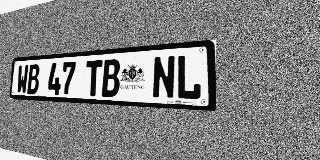4: (47, 62, 62, 95)
7: (61, 62, 76, 96)
B: (102, 59, 120, 97), (27, 64, 40, 94)
L: (176, 54, 202, 100)
N: (152, 55, 176, 99)
T: (85, 60, 102, 97)
W: (16, 65, 29, 94)
